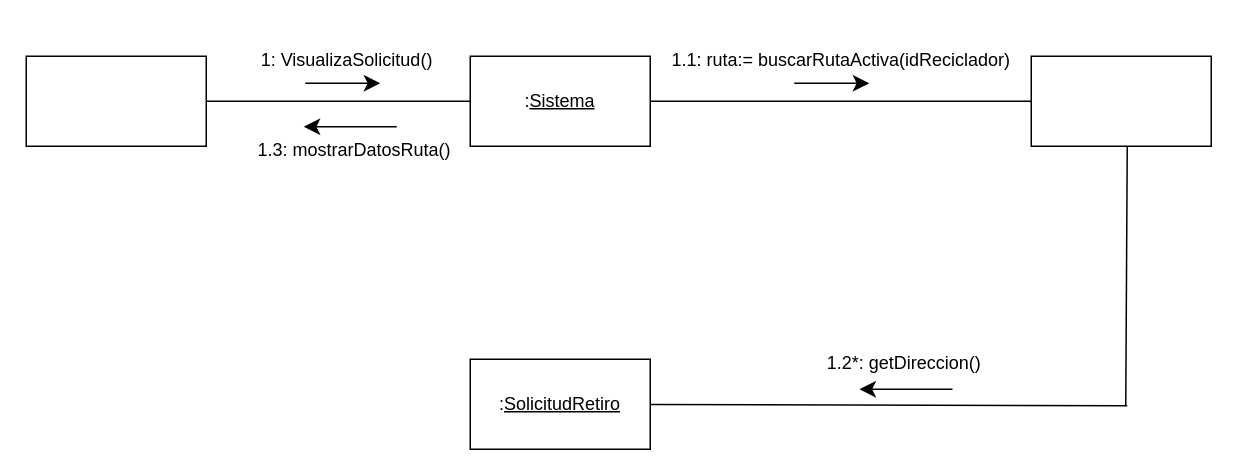
This 1238x476 diagram has some shape labels left out. Here are the shapes that lost their labels. From the top down, the box of each, then its label:
(25, 55, 206, 146): : Reciclador
(1030, 55, 1211, 146): : Ruta
